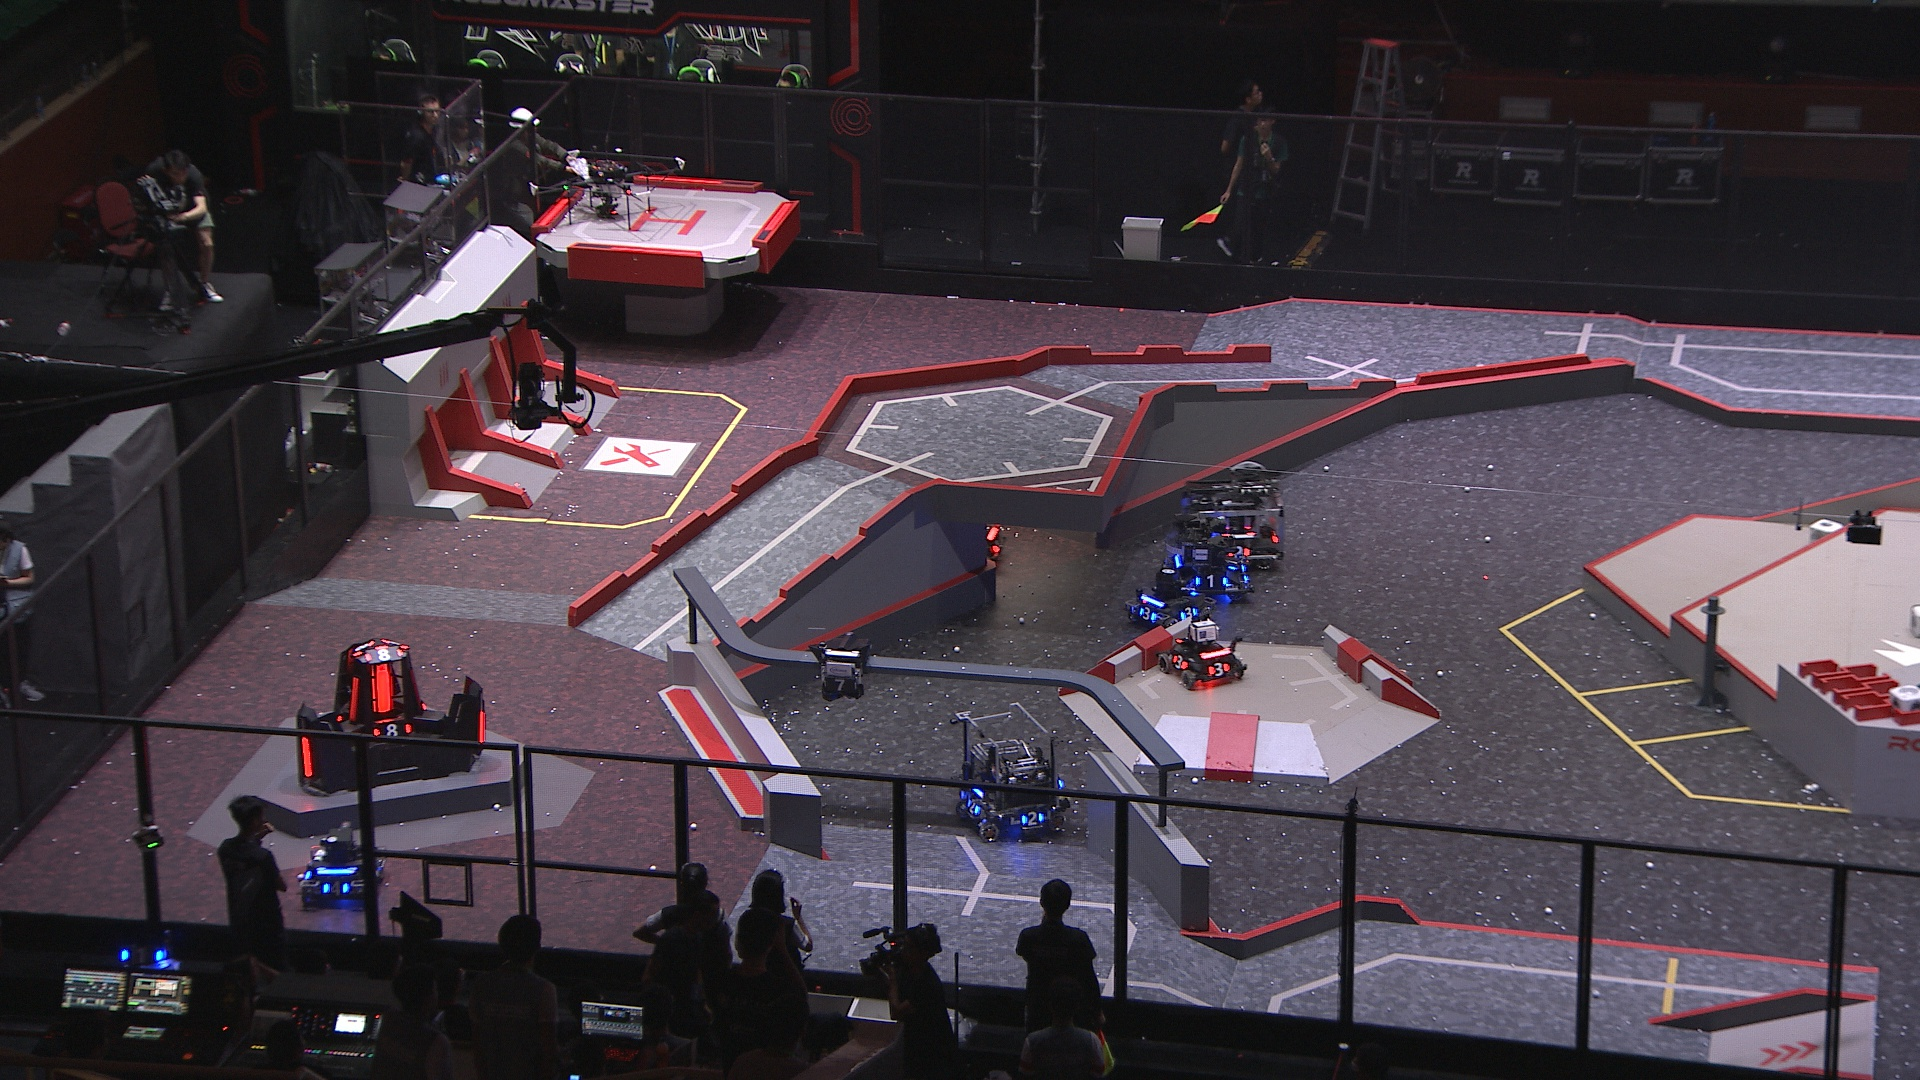armor: (367, 665, 394, 717), (299, 735, 316, 783), (363, 647, 404, 665), (822, 678, 858, 695), (373, 723, 413, 738), (320, 880, 352, 899), (1193, 572, 1229, 589), (347, 676, 359, 725), (1207, 659, 1230, 679), (477, 708, 489, 746), (1019, 811, 1044, 828), (1179, 605, 1199, 622), (964, 798, 981, 818), (1171, 655, 1189, 673), (1138, 605, 1156, 622)
base: (294, 640, 491, 798)
car: (949, 700, 1073, 841), (1178, 462, 1286, 572), (295, 822, 386, 913), (1166, 513, 1253, 604), (1154, 616, 1245, 688), (920, 495, 1005, 568), (1121, 564, 1211, 633)
watcher: (814, 637, 873, 704)
